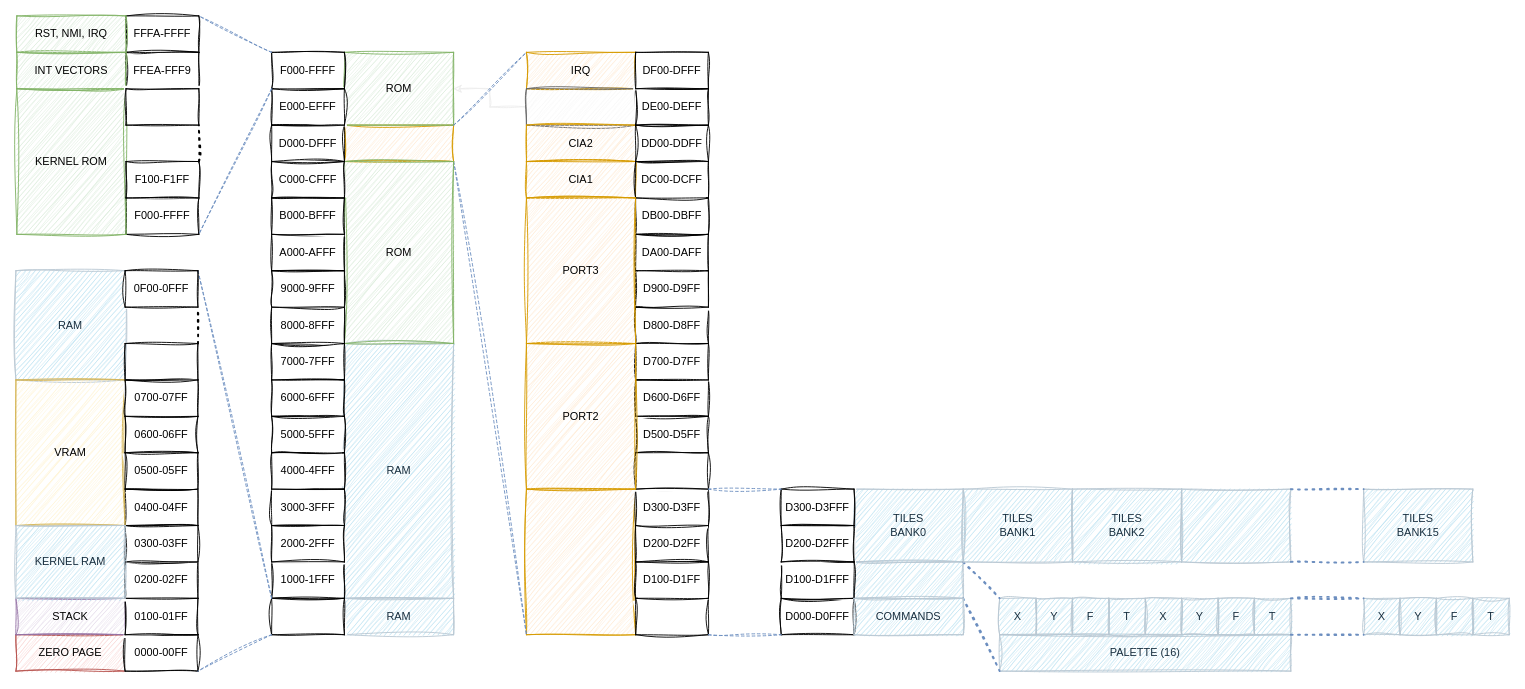
Image size: 1525x689. Some labels were removed from this diagram. The centre of each missing label's shape, as x and y in pixels:
"0000-0FFF" belongs at (307,616).
"0800-08FF" belongs at (161,361).
"D000-D0FF" belongs at (671,616).
"D400-D4FF" belongs at (671,470).
"FF00-FFE9" belongs at (162,106).
"I/O" belongs at (399,143).
"PORT1" belongs at (581,561).
"SPRITES(64)" belongs at (908,579).
"TILES BANK3" belongs at (1236,525).
"USR" belongs at (581,106).
